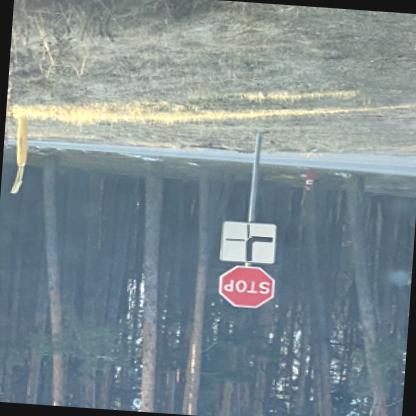stop: (220, 268, 278, 310)
